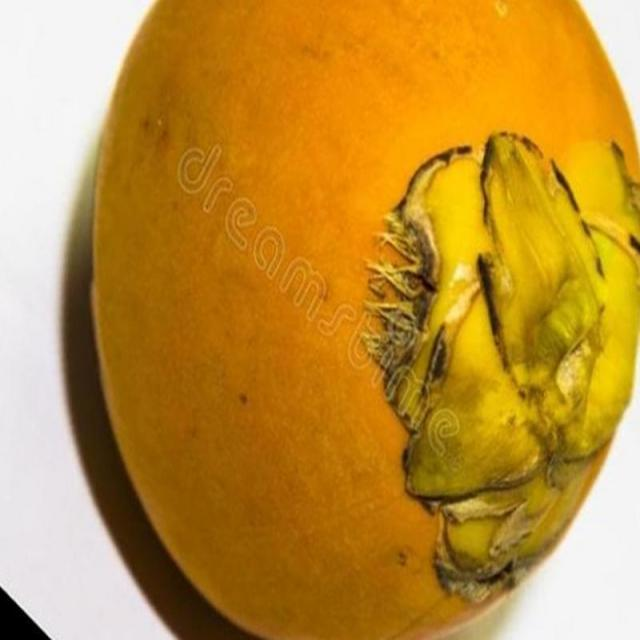good: (88, 0, 639, 639)
